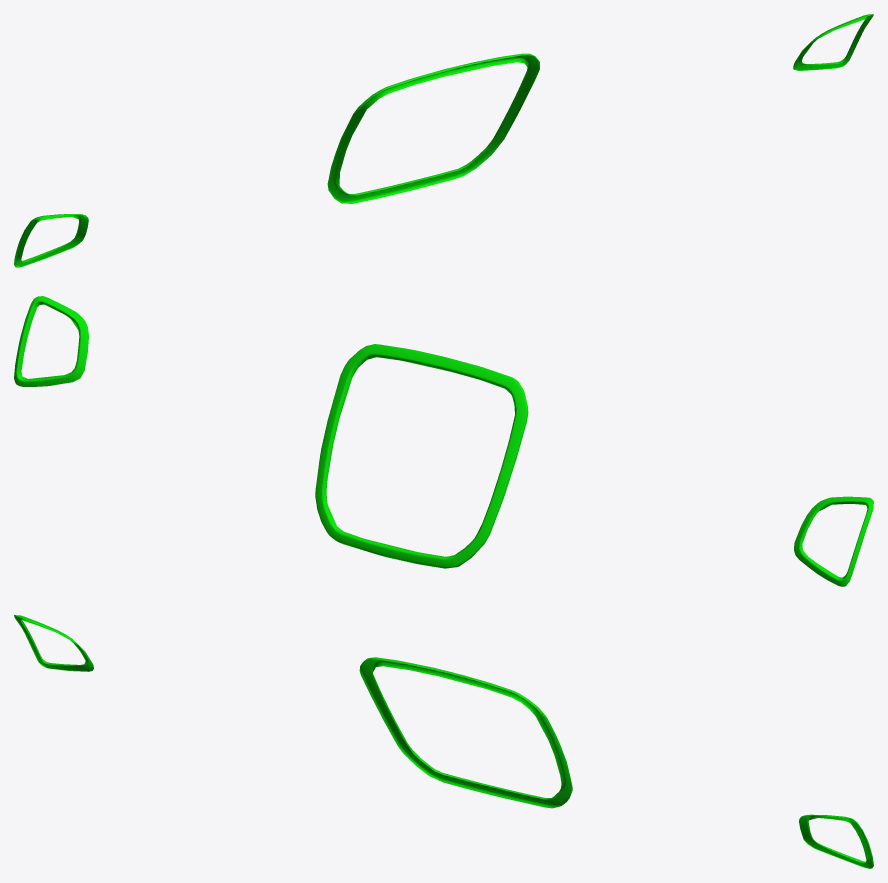
File: TOYOTA_URBAN_CRUISER_PRE_HIG_IN_DASHBOARD_CENTRE_GARNISH_MESH.glb
3 renders of one model, top to bottom at view 1: azimuth 30°, elevation 25°; view 2: azimuth 150°, elevation 25°; view 3: azimuth 330°, elevation 25°, orthographic.
Parts seen in each view (by area): view 1: TOYOTA_URBAN_CRUISER_PRE_HIG_IN_DASHBOARD_CENTRE_GARNISH_MES; view 2: TOYOTA_URBAN_CRUISER_PRE_HIG_IN_DASHBOARD_CENTRE_GARNISH_MES; view 3: TOYOTA_URBAN_CRUISER_PRE_HIG_IN_DASHBOARD_CENTRE_GARNISH_MES.
Boxes of the visible parts, x1,y1,x2,y2 form: TOYOTA_URBAN_CRUISER_PRE_HIG_IN_DASHBOARD_CENTRE_GARNISH_MES: (14,14,873,267); TOYOTA_URBAN_CRUISER_PRE_HIG_IN_DASHBOARD_CENTRE_GARNISH_MES: (14,296,873,586); TOYOTA_URBAN_CRUISER_PRE_HIG_IN_DASHBOARD_CENTRE_GARNISH_MES: (14,615,873,868).
Bounding box in the file's own units: 1.31 × 0.2439 × 0.1608.
